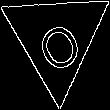O_NW: (28, 6, 85, 72)
